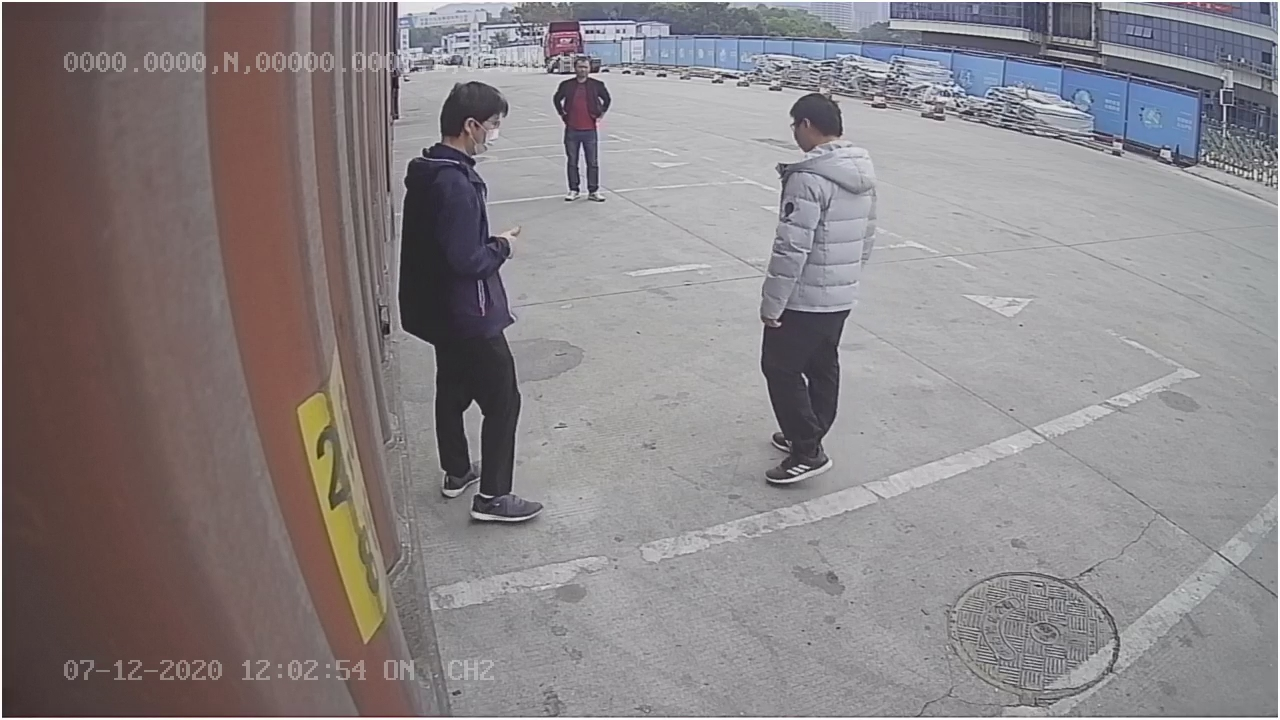person: (757, 81, 877, 487)
